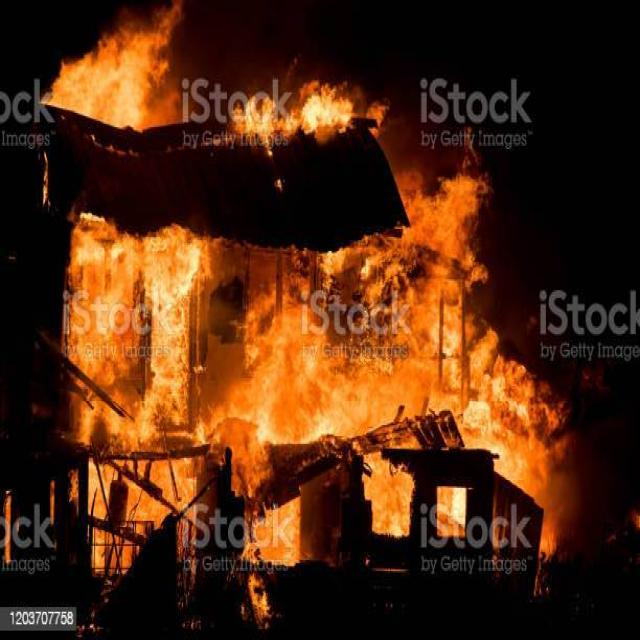Fire: (68, 218, 520, 440), (75, 444, 302, 566), (46, 1, 183, 128), (221, 76, 390, 138), (523, 365, 575, 559), (402, 146, 485, 213), (364, 453, 415, 538), (240, 574, 274, 636), (438, 488, 468, 538)
